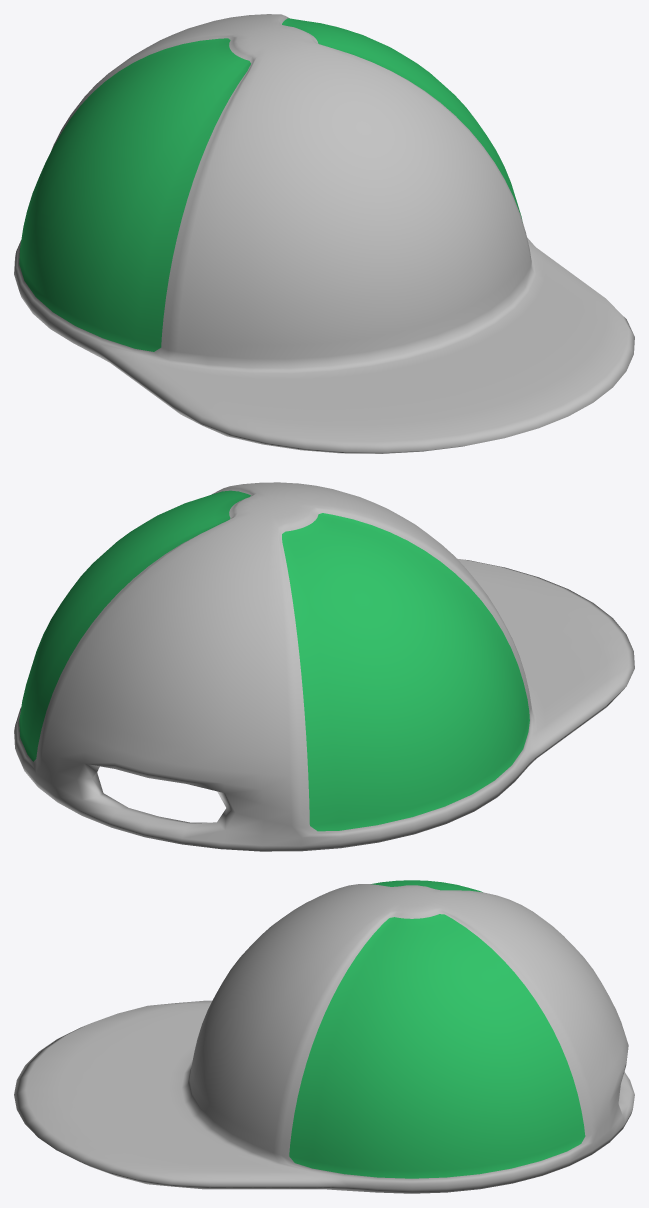
File: Hut_B.gltf
3 renders of one model, top to bottom at view 1: azimuth 30°, elevation 25°; view 2: azimuth 150°, elevation 25°; view 3: azimuth 270°, elevation 25°, orthographic. The views are drawn at different scales.
Visible parts, largest first — view 1: pSphere1.001; view 2: pSphere1.001; view 3: pSphere1.001.
Boxes of the visible parts, x1,y1,x2,y2 form: pSphere1.001: (14,14,634,453); pSphere1.001: (14,482,634,851); pSphere1.001: (14,880,634,1193).
Bounding box in the file's own units: 0.4647 × 0.2356 × 0.645.
